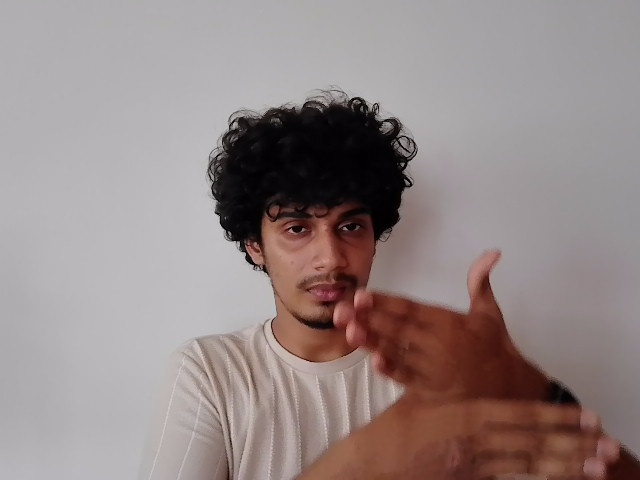busy: (332, 251, 637, 480)
